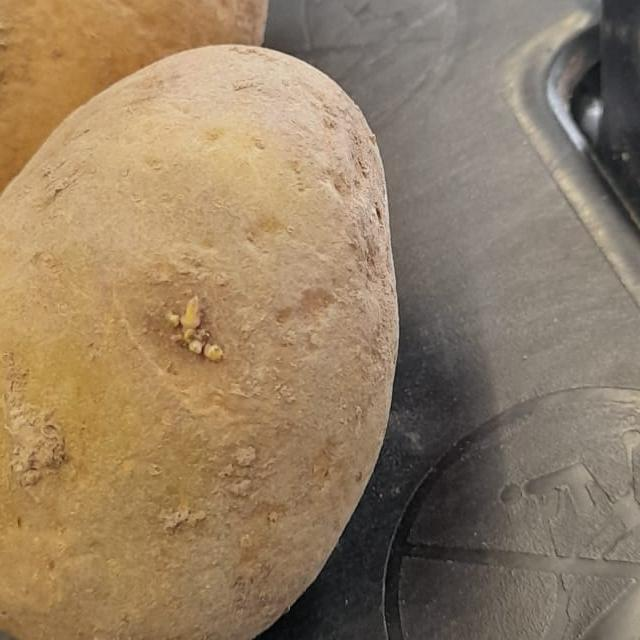potato: (0, 46, 449, 640), (0, 0, 290, 280)
